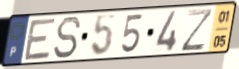4: (154, 10, 179, 54)
5: (90, 12, 117, 58), (120, 13, 145, 55)
E: (22, 16, 59, 63)
S: (52, 15, 83, 61)
Z: (179, 6, 215, 53)
